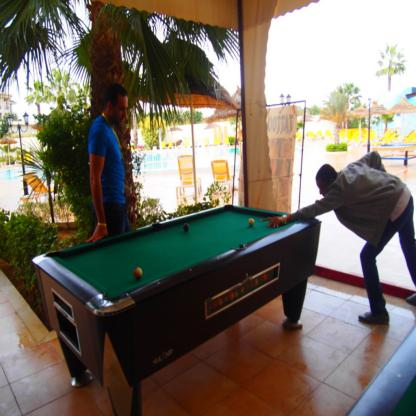Ball: (208, 272, 268, 312), (133, 266, 143, 281), (184, 224, 190, 234), (247, 219, 253, 226)
